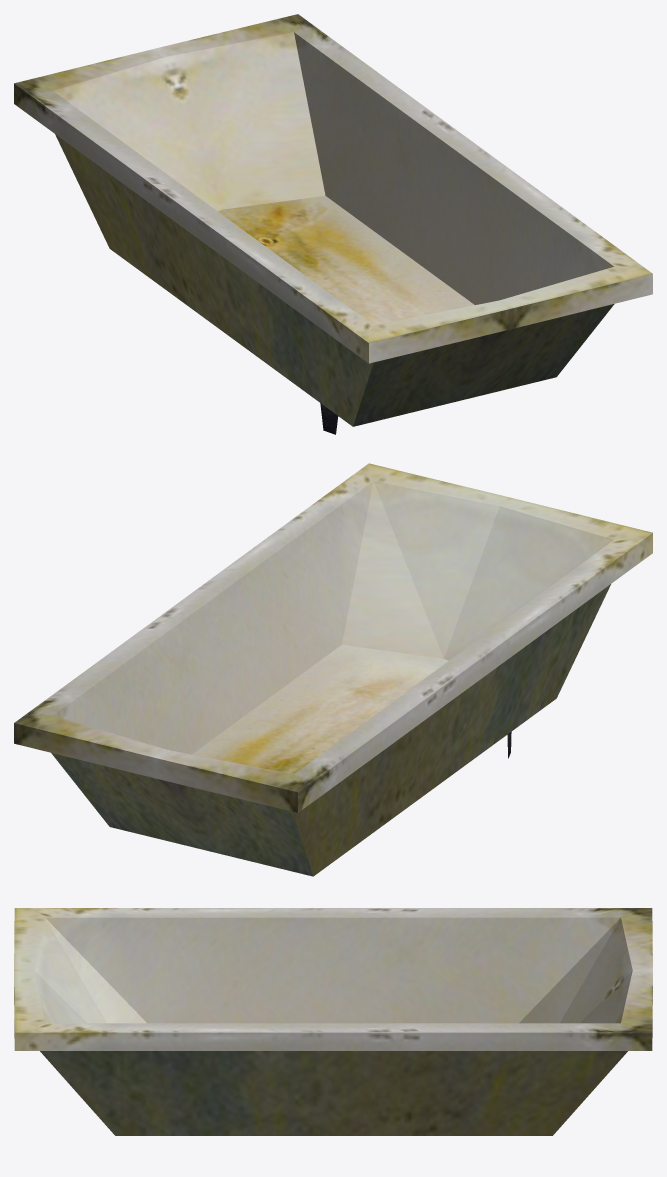
File: Bath.fbx
3 views of the same model, one above another, from view 1: azimuth 30°, elevation 25°; view 2: azimuth 150°, elevation 25°; view 3: azimuth 270°, elevation 25° (orthographic). The views are drawn at different scales.
Visible parts, largest first — view 1: Bath; view 2: Bath; view 3: Bath.
Boxes of the visible parts, bbox=[...] form: Bath: bbox=[14, 14, 652, 426]; Bath: bbox=[14, 463, 652, 876]; Bath: bbox=[14, 908, 652, 1135].
Size of the model in its own units: 99.94 by 56.85 by 217.
Materials: 1 (1 with a texture image).
